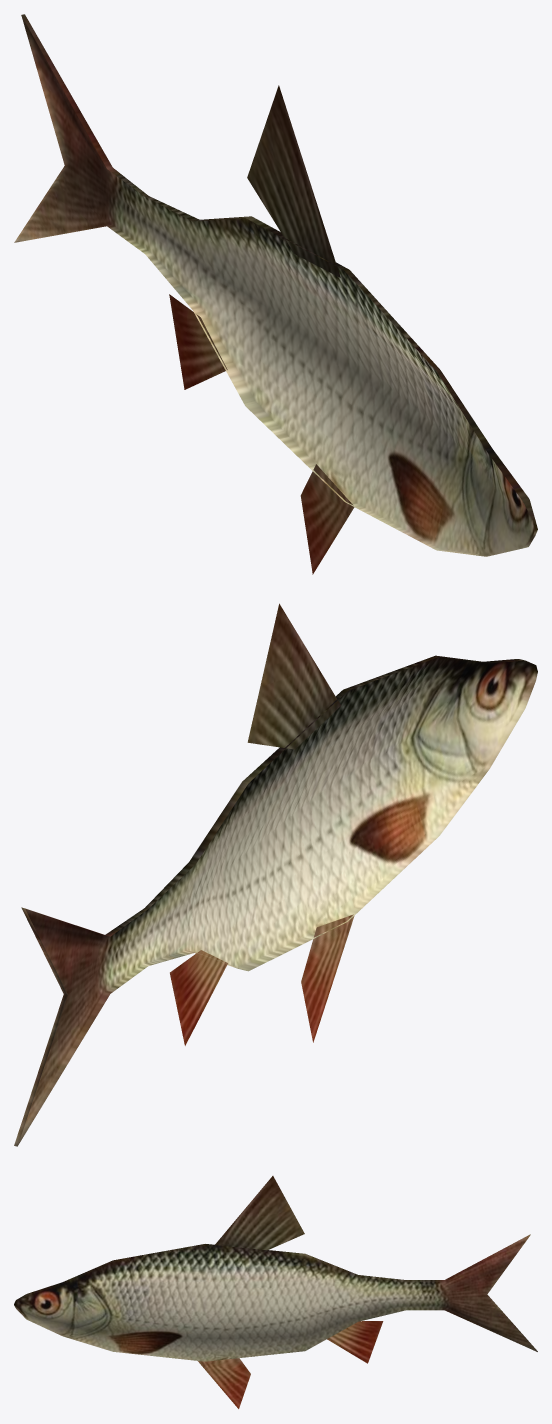
The model's file is plotva.glb.
3 views of the same model, one above another, from view 1: azimuth 30°, elevation 25°; view 2: azimuth 150°, elevation 25°; view 3: azimuth 270°, elevation 25° (orthographic). The views are drawn at different scales.
Visible parts, largest first — view 1: Cube; view 2: Cube; view 3: Cube.
Boxes of the visible parts, box(x1,y1,x2,y2) form: Cube: box(14, 14, 537, 574); Cube: box(14, 603, 537, 1146); Cube: box(14, 1176, 537, 1408).
Bounding box in the file's own units: 0.0106 × 0.1257 × 0.2552.
1 material, 1 textured.
